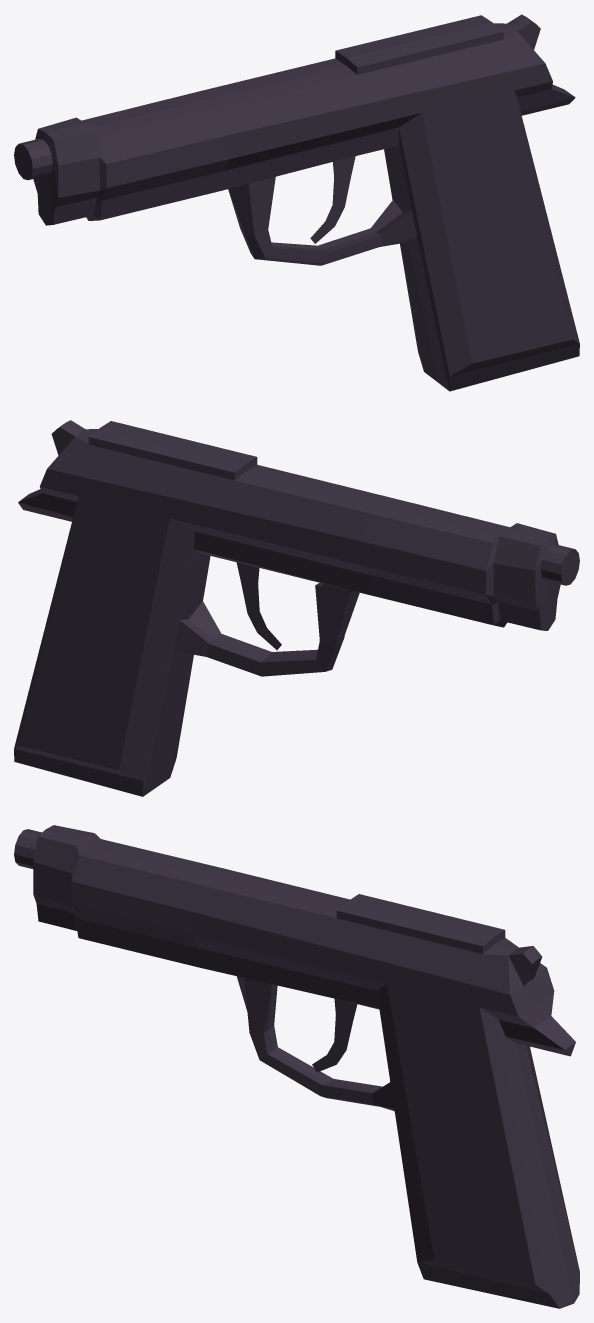
File: BerettaM9.fbx
The picture shows the model from 3 angles, top to bottom: view 1: azimuth 30°, elevation 25°; view 2: azimuth 150°, elevation 25°; view 3: azimuth 330°, elevation 25°; orthographic projection.
Parts seen in each view (by area): view 1: BerettaM9; view 2: BerettaM9; view 3: BerettaM9.
Part boxes in pixels (x1,y1,x2,y2): BerettaM9: [14, 14, 579, 391]; BerettaM9: [14, 420, 579, 796]; BerettaM9: [14, 825, 579, 1308].
Size of the model in its own units: 21.3 by 12.86 by 2.68.
